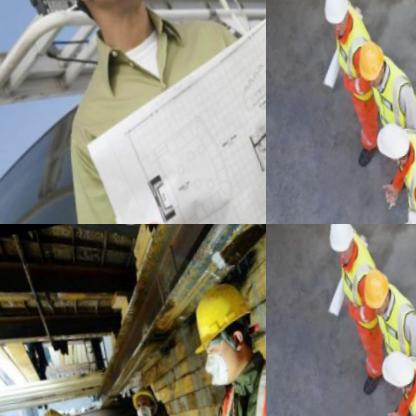helmet: (184, 281, 261, 389), (19, 0, 168, 53), (371, 121, 413, 166), (375, 349, 416, 394), (353, 41, 387, 91), (358, 269, 392, 319), (321, 224, 356, 265), (316, 0, 351, 37), (126, 384, 161, 416), (30, 402, 72, 416)
